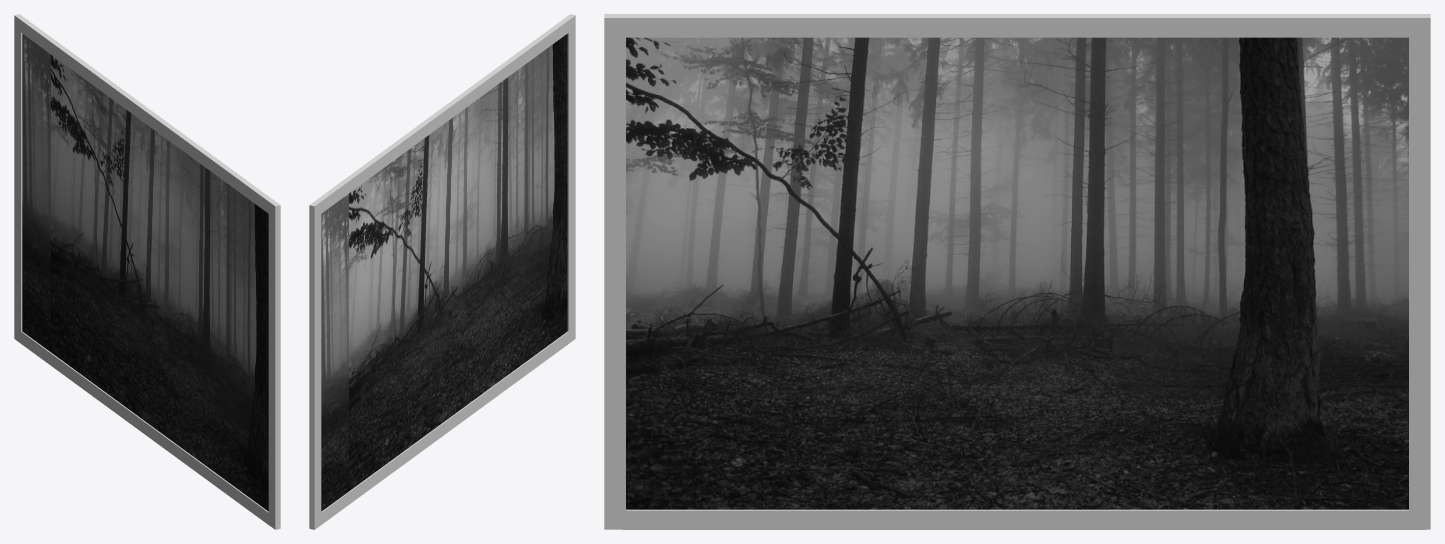
The model's file is painting_forest.fbx.
3 views of the same model, side by side, from view 1: azimuth 30°, elevation 25°; view 2: azimuth 150°, elevation 25°; view 3: azimuth 270°, elevation 25° (orthographic). The views are drawn at different scales.
Parts seen in each view (by area): view 1: painting, frame; view 2: painting, frame; view 3: painting, frame.
Part boxes in pixels (x1,y1,x2,y2): painting: (22,34,268,511); frame: (14,14,280,529); painting: (321,34,567,511); frame: (309,14,575,529); painting: (626,37,1408,509); frame: (604,14,1430,529).
Bounding box in the file's own units: 4.78 × 281 × 411.
